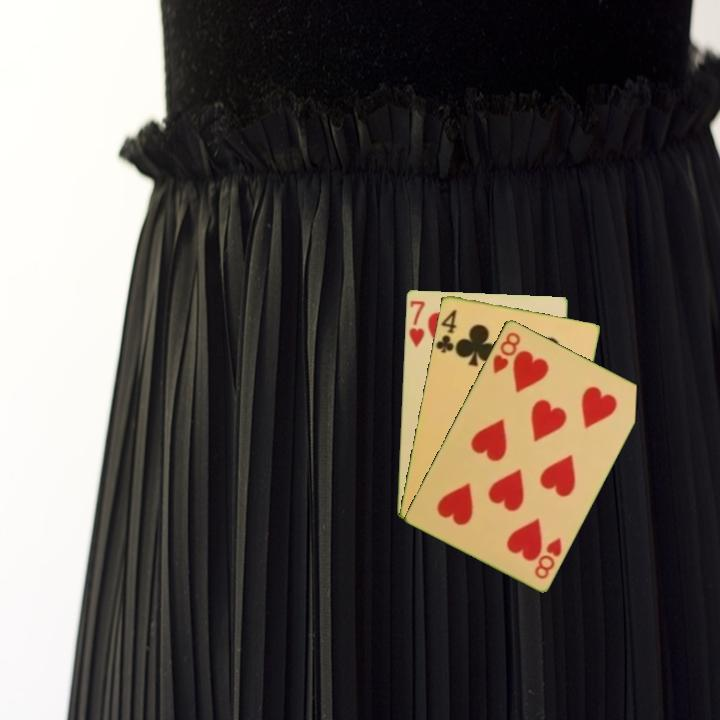4c: (433, 305, 459, 356)
7h: (405, 297, 427, 350)
8h: (489, 328, 523, 376), (531, 534, 565, 582)
